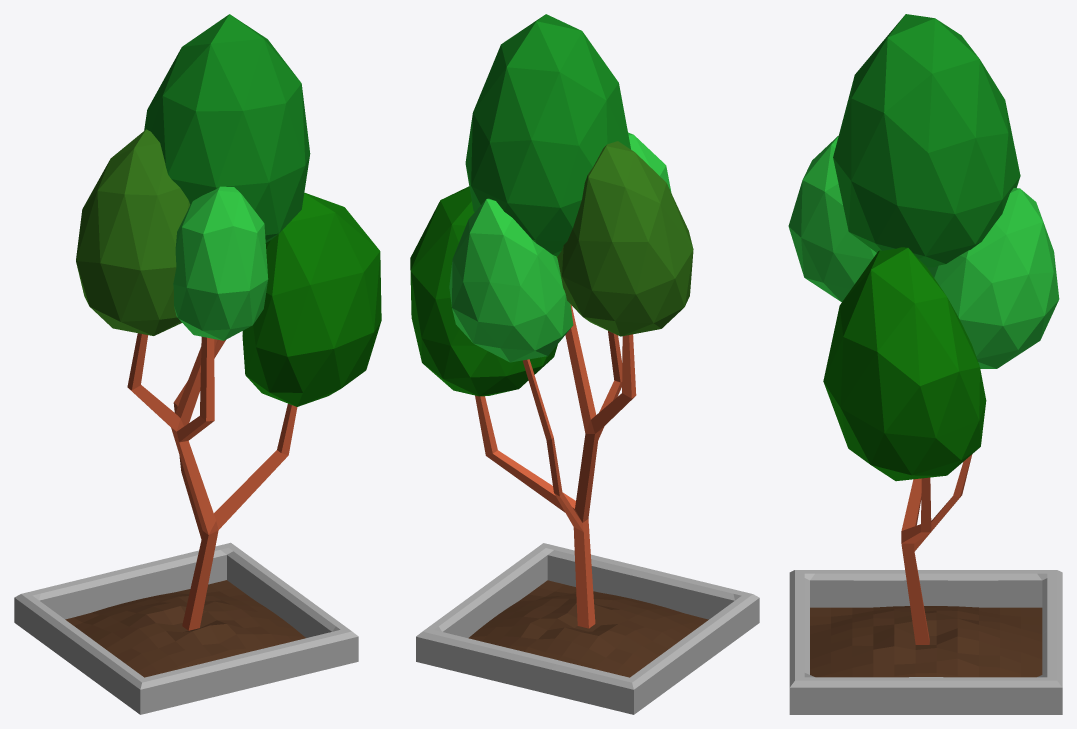
Rendered from tree.fbx.
3 views of the same model, side by side, from view 1: azimuth 30°, elevation 25°; view 2: azimuth 150°, elevation 25°; view 3: azimuth 270°, elevation 25° (orthographic). The views are drawn at different scales.
Visible parts, largest first — view 1: Plane; view 2: Plane; view 3: Plane.
Boxes of the visible parts, x1=… form: Plane: x1=14, y1=14, x2=381, y2=714; Plane: x1=410, y1=14, x2=759, y2=714; Plane: x1=788, y1=14, x2=1062, y2=714.
Bounding box in the file's own units: 1858 × 3797 × 1406.
